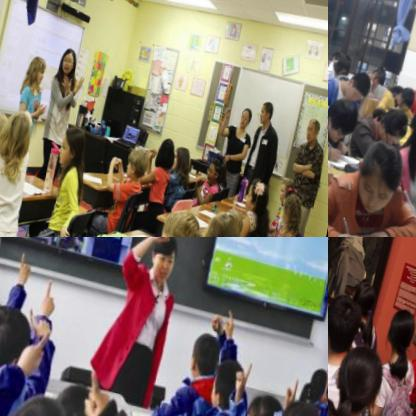head: (354, 125, 411, 215), (334, 329, 390, 415), (44, 366, 109, 416), (0, 381, 79, 416), (328, 282, 367, 348), (152, 193, 208, 237), (0, 99, 38, 162), (209, 347, 249, 405), (187, 313, 225, 371), (0, 306, 32, 372), (373, 94, 413, 141), (346, 268, 382, 320), (328, 86, 362, 140), (274, 383, 328, 416), (56, 120, 91, 170), (240, 378, 286, 416), (385, 296, 416, 350), (144, 237, 181, 277), (123, 136, 154, 183), (303, 347, 328, 404), (202, 200, 239, 237), (343, 56, 373, 99), (244, 169, 270, 210), (279, 185, 305, 222), (27, 48, 51, 87), (156, 127, 179, 164), (57, 42, 80, 78), (394, 73, 416, 104), (303, 106, 324, 138), (277, 166, 299, 196), (334, 42, 355, 73), (172, 138, 191, 171), (205, 149, 225, 180), (256, 92, 277, 121), (370, 55, 388, 82), (0, 106, 11, 145), (238, 98, 253, 122), (331, 42, 344, 60)
